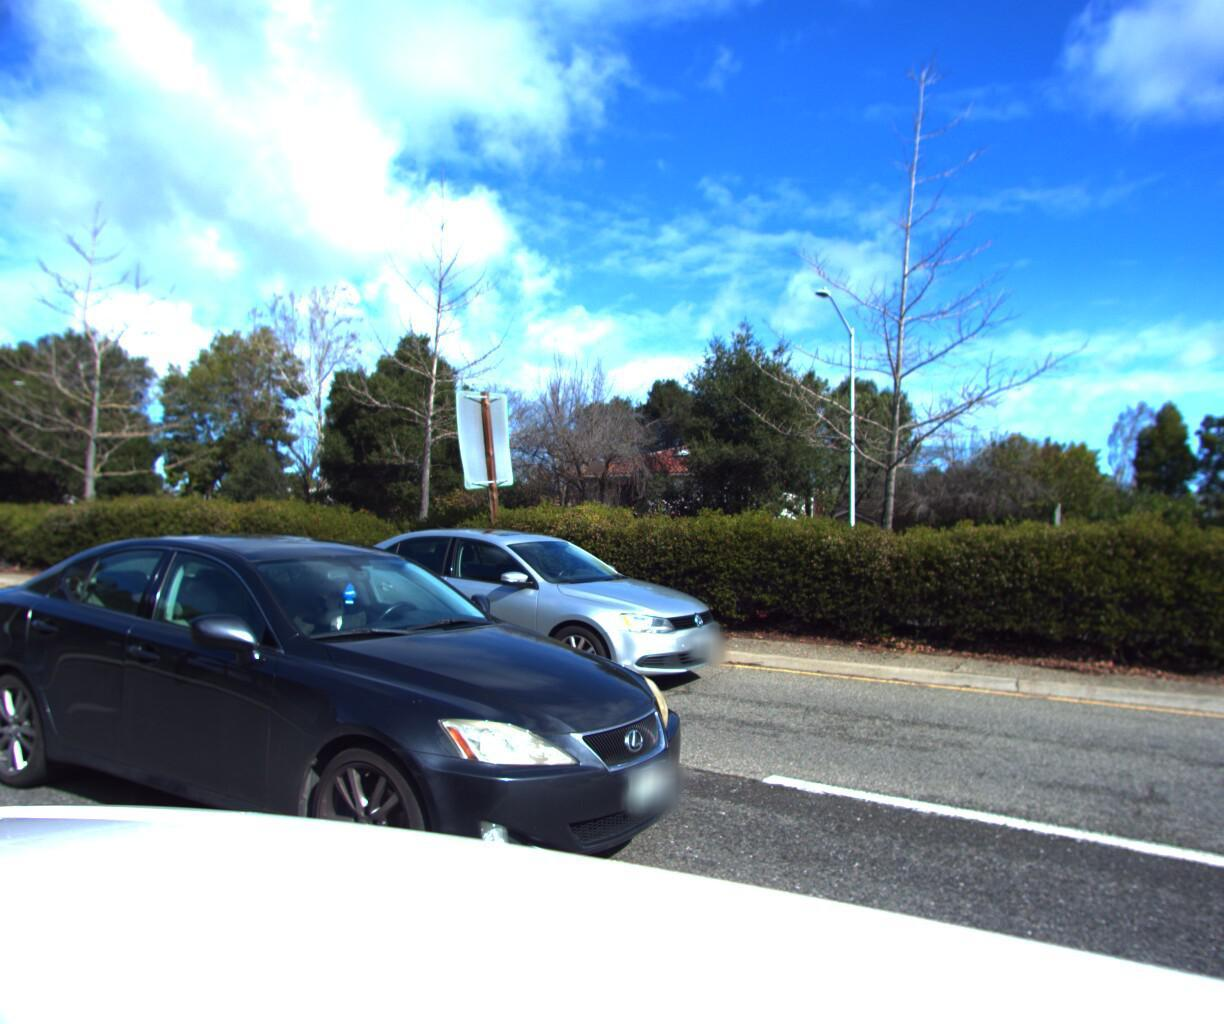car: (0, 513, 736, 948), (314, 520, 747, 701)
